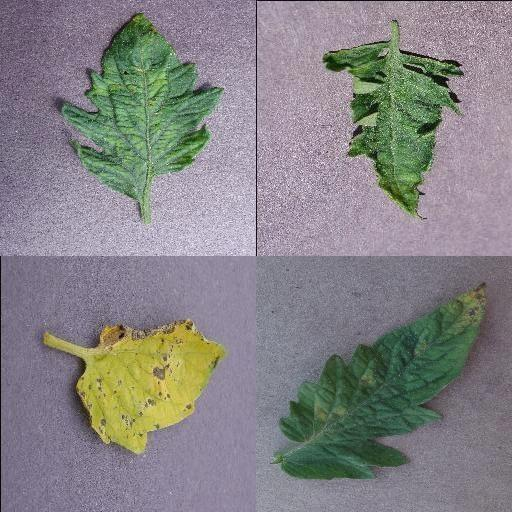Leaf Mold: (277, 280, 491, 482)
Mosaic Virus: (61, 12, 225, 199), (319, 38, 465, 222)
Septoria: (75, 319, 229, 457)
